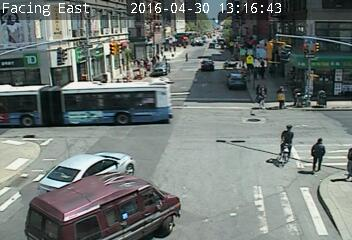neg: (272, 120, 304, 162), (264, 190, 289, 222), (59, 129, 83, 162), (195, 178, 217, 208), (252, 78, 274, 108), (138, 176, 159, 204), (165, 139, 186, 167), (38, 51, 58, 78), (64, 182, 84, 209), (221, 122, 241, 148), (137, 80, 156, 106), (190, 96, 209, 121), (28, 97, 47, 122), (90, 36, 108, 60), (326, 77, 343, 99), (101, 164, 117, 186), (12, 177, 28, 198), (306, 46, 321, 66), (96, 96, 110, 115), (201, 61, 215, 80), (302, 90, 316, 108), (255, 45, 269, 63)
pos: (307, 134, 335, 170), (272, 83, 292, 109), (181, 50, 191, 63)
